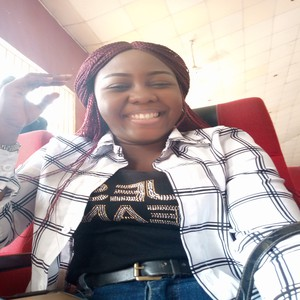Fulokoja_female_student: (68, 42, 211, 300)
